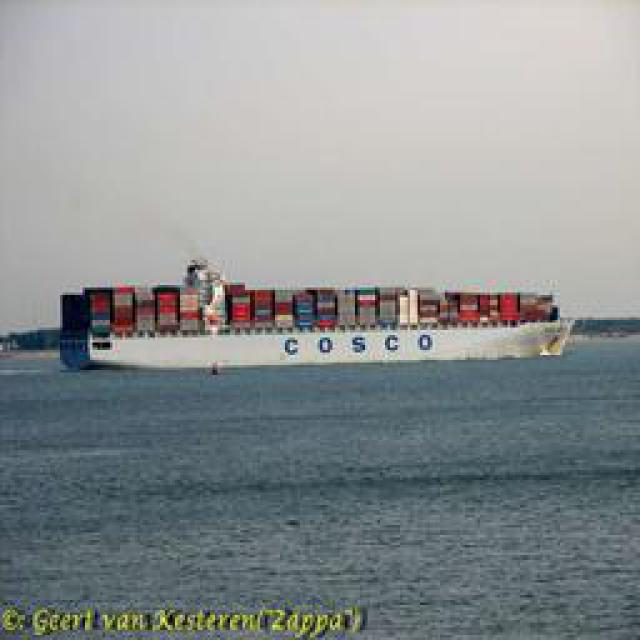Ship: (67, 270, 567, 375)
